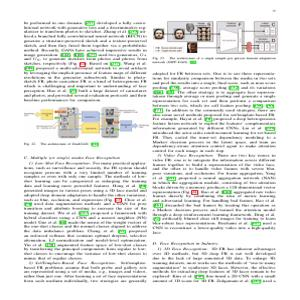diagram: (152, 19, 281, 68), (22, 106, 150, 148)
text: (151, 71, 278, 286), (21, 153, 150, 285), (21, 18, 150, 105)
